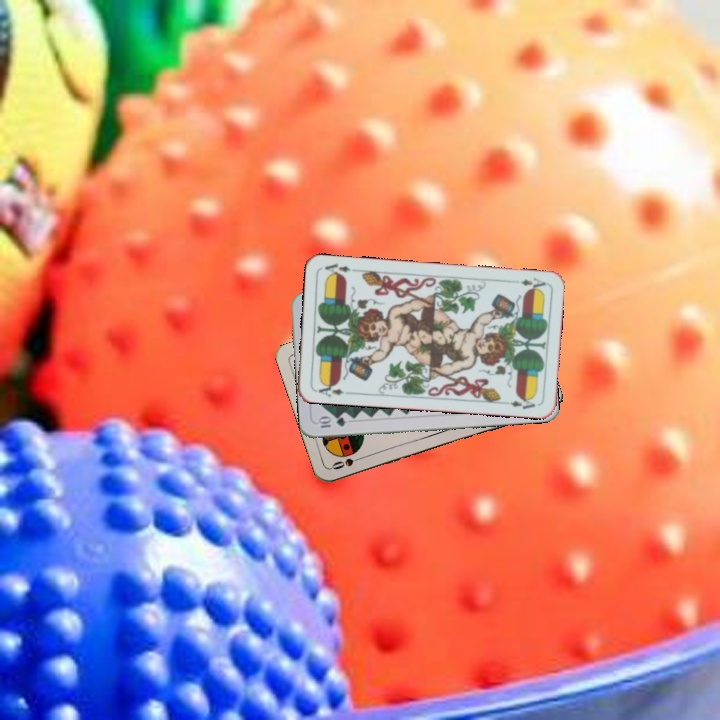EA: (311, 379, 346, 399), (517, 274, 549, 293)
G10: (314, 414, 349, 430)
SO: (328, 452, 367, 472)
